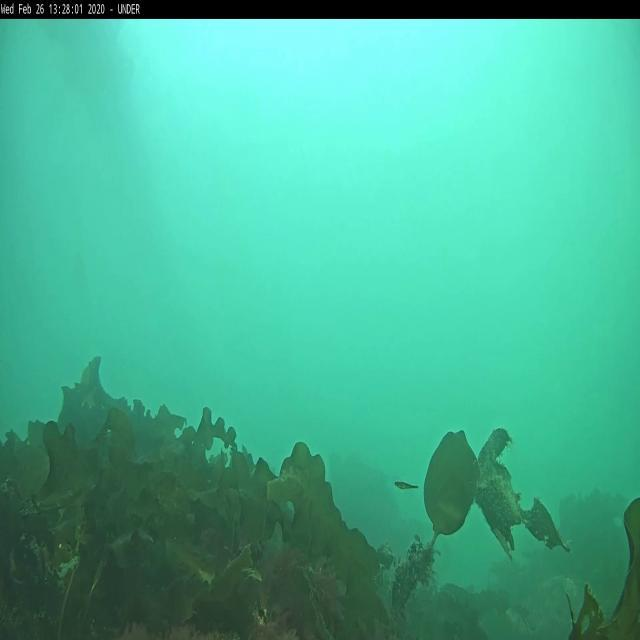fish: (394, 478, 419, 492)
